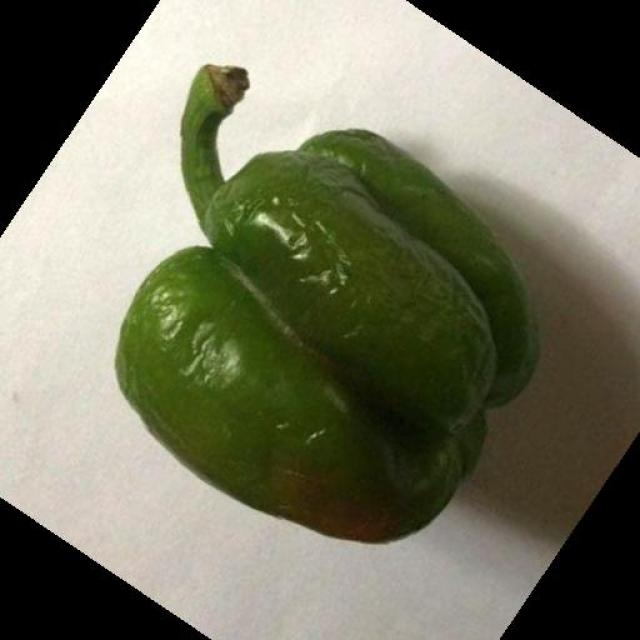Stale_Capsicum: (109, 62, 574, 530)
